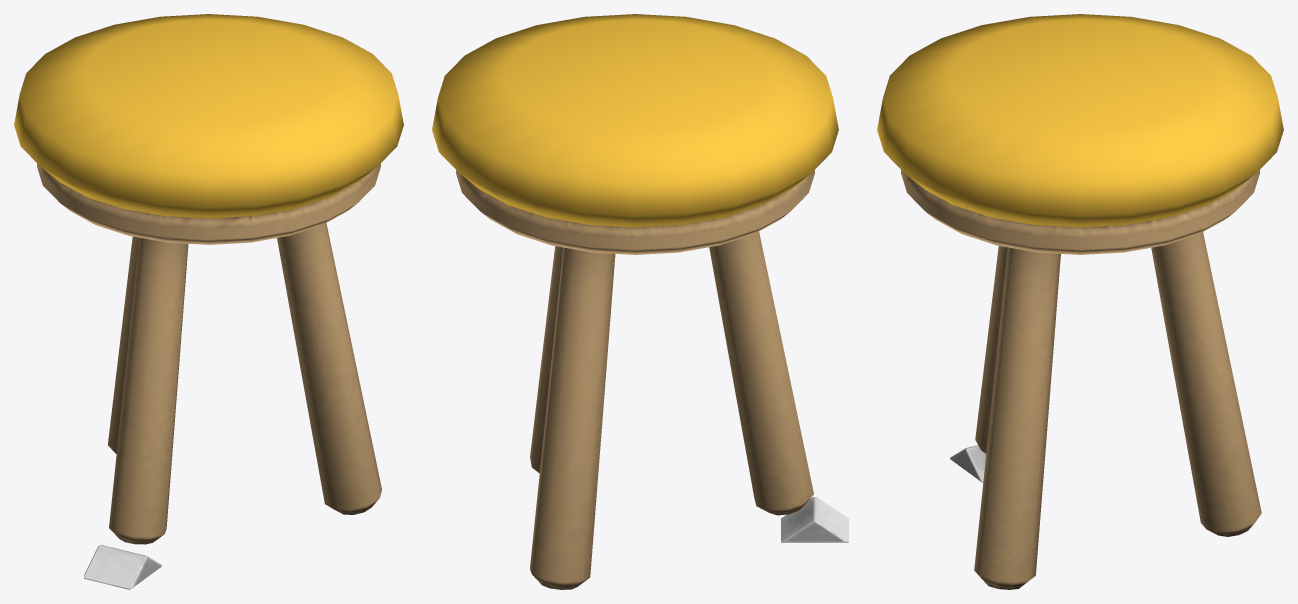
Rendered from intern_stool.glb.
The picture shows the model from 3 angles, left to right: view 1: azimuth 30°, elevation 25°; view 2: azimuth 150°, elevation 25°; view 3: azimuth 270°, elevation 25°; orthographic projection. The views are drawn at different scales.
Parts seen in each view (by area): view 1: intern_stool; view 2: intern_stool; view 3: intern_stool.
Boxes of the visible parts, x1,y1,x2,y2 form: intern_stool: (14, 14, 403, 589); intern_stool: (432, 14, 848, 589); intern_stool: (877, 14, 1283, 589).
Size of the model in its own units: 0.34 by 0.4253 by 0.34.
Materials: 3 (3 with a texture image).
